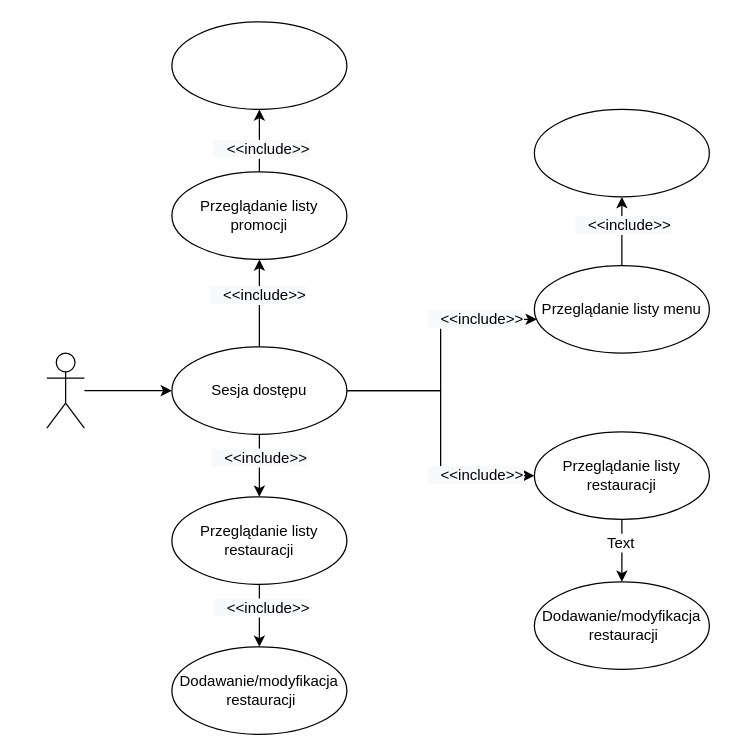
This 731x756 diagram has some shape labels left out. The shapes that lost their labels are listed below. From the top down, each one's box as (x1, y1, x2, y2) in pixels, then its label:
(171, 21, 347, 109): Dodawanie/modyfikacja promocji
(533, 108, 709, 197): Dodawanie/modyfikacja menu
(46, 352, 84, 428): Administrator
